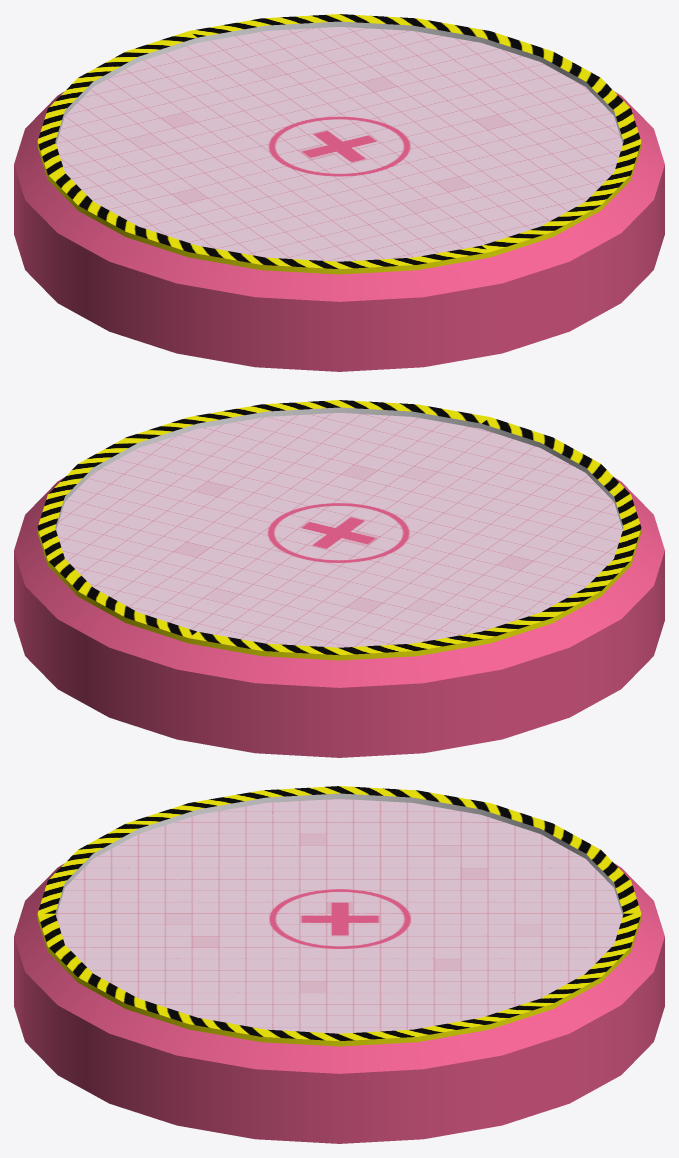
3 renders of one model, top to bottom at view 1: azimuth 30°, elevation 25°; view 2: azimuth 150°, elevation 25°; view 3: azimuth 270°, elevation 25°, orthographic.
Visible parts, largest first — view 1: floor_circle; view 2: floor_circle; view 3: floor_circle.
Boxes of the visible parts, x1,y1,x2,y2 form: floor_circle: [14, 14, 664, 371]; floor_circle: [14, 400, 664, 757]; floor_circle: [14, 786, 664, 1143].
Bounding box in the file's own units: 2549 × 401 × 2549.
Materials: 1 (1 with a texture image).
